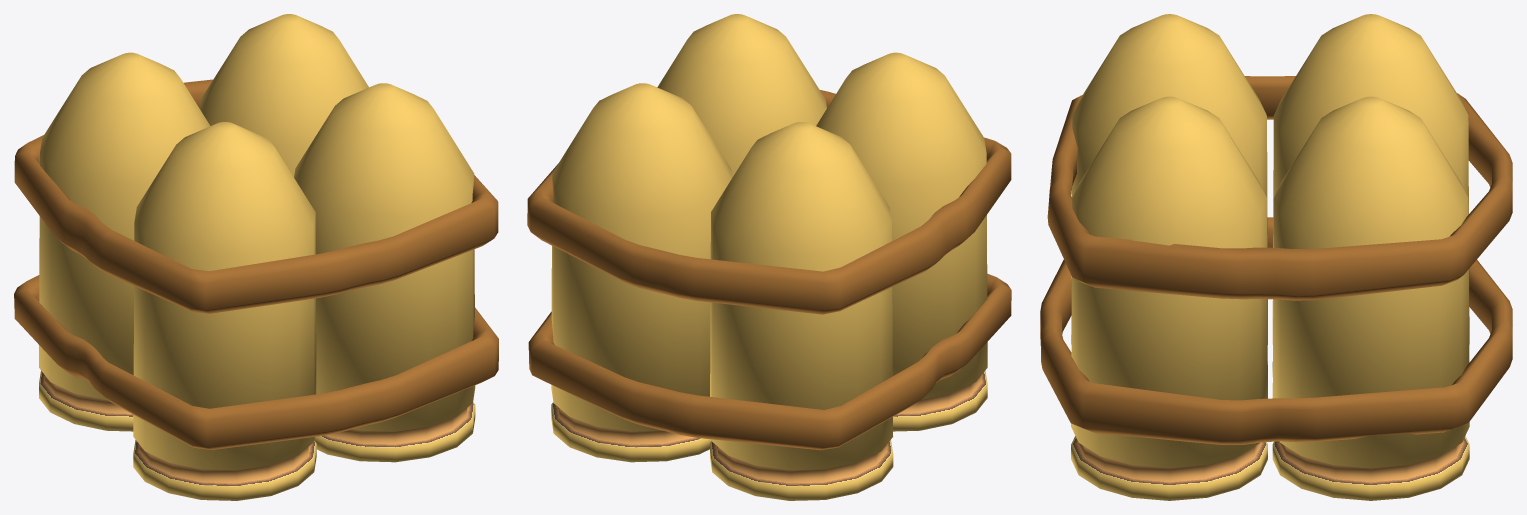
The model's file is MermiStack.fbx.
3 renders of one model, left to right at view 1: azimuth 30°, elevation 25°; view 2: azimuth 150°, elevation 25°; view 3: azimuth 270°, elevation 25°, orthographic. The views are drawn at different scales.
Parts seen in each view (by area): view 1: Mermi.001; view 2: Mermi.001; view 3: Mermi.001.
Part boxes in pixels (x1=…): Mermi.001: x1=14, y1=14, x2=498, y2=500; Mermi.001: x1=527, y1=14, x2=1011, y2=500; Mermi.001: x1=1040, y1=14, x2=1512, y2=500.
Bounding box in the file's own units: 0.8549 × 0.7526 × 0.8997.
